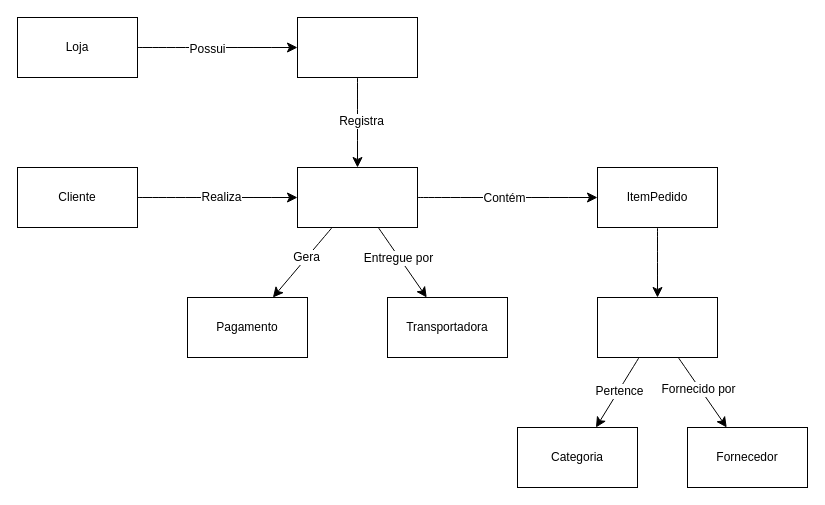
This 825x505 diagram has some shape labels left out. The box of each missing label's shape, as (x1, y1, x2, y2) in pixels:
Funcionario: (296, 16, 418, 78)
Pedido: (296, 166, 418, 228)
Produto: (596, 296, 718, 358)
